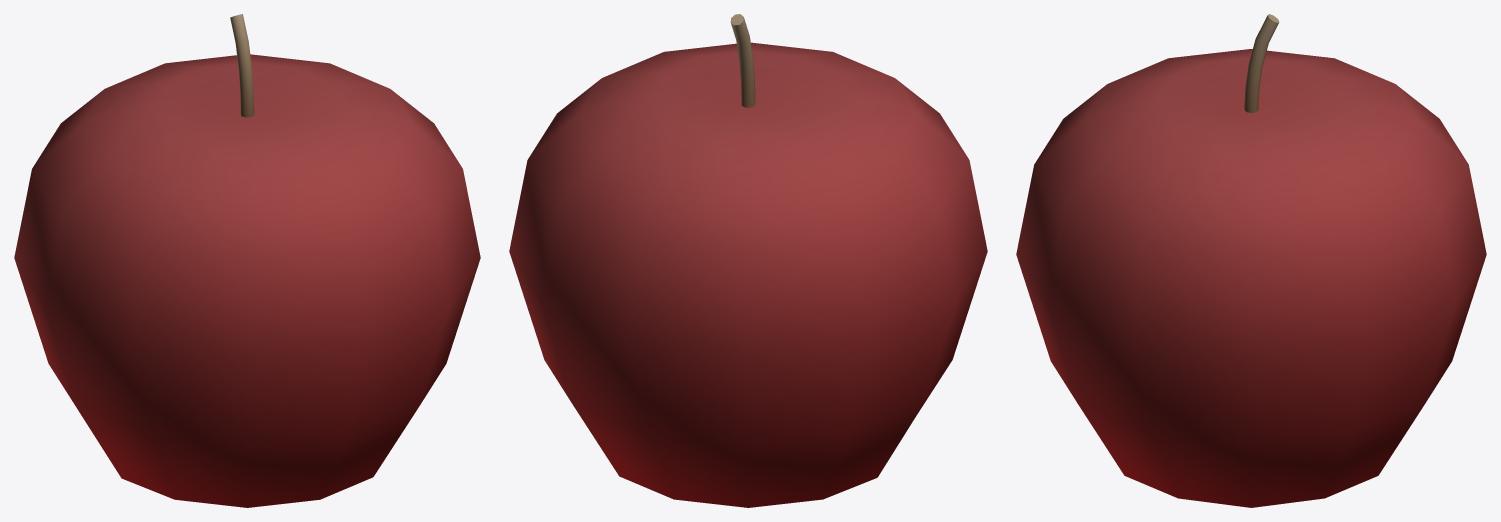
File: SM_Fruit.fbx
The picture shows the model from 3 angles, left to right: view 1: azimuth 30°, elevation 25°; view 2: azimuth 150°, elevation 25°; view 3: azimuth 270°, elevation 25°; orthographic projection. The views are drawn at different scales.
Parts seen in each view (by area): view 1: BezierCurve.001; view 2: BezierCurve.001; view 3: BezierCurve.001.
Boxes of the visible parts, x1,y1,x2,y2 form: BezierCurve.001: (14,14,480,507); BezierCurve.001: (509,14,987,507); BezierCurve.001: (1016,14,1486,507).
Size of the model in its own units: 34.87 by 37.45 by 34.87.
